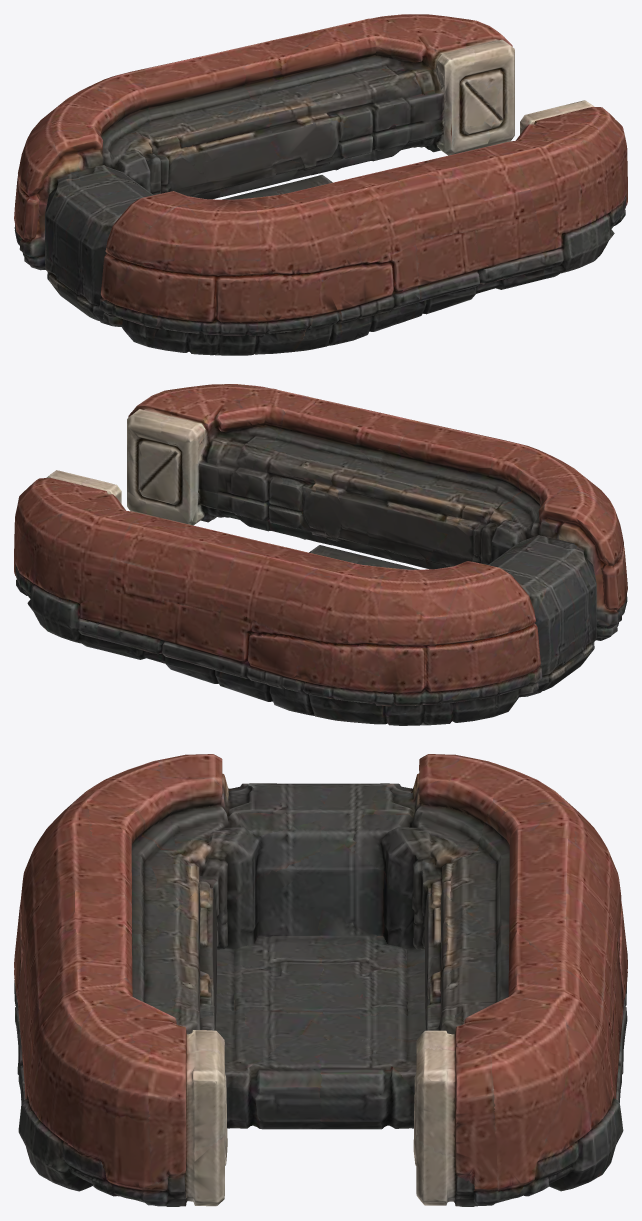
The picture shows the model from 3 angles, top to bottom: view 1: azimuth 30°, elevation 25°; view 2: azimuth 150°, elevation 25°; view 3: azimuth 270°, elevation 25°; orthographic projection. The views are drawn at different scales.
Visible parts, largest first — view 1: chassis; view 2: chassis; view 3: chassis.
Part boxes in pixels (left/top/right/bottom): chassis: left=14, top=14, right=627, bottom=355; chassis: left=14, top=384, right=627, bottom=725; chassis: left=14, top=754, right=627, bottom=1206.
Size of the model in its own units: 0.9898 by 0.2807 by 0.7564.
Materials: 1 (1 with a texture image).
